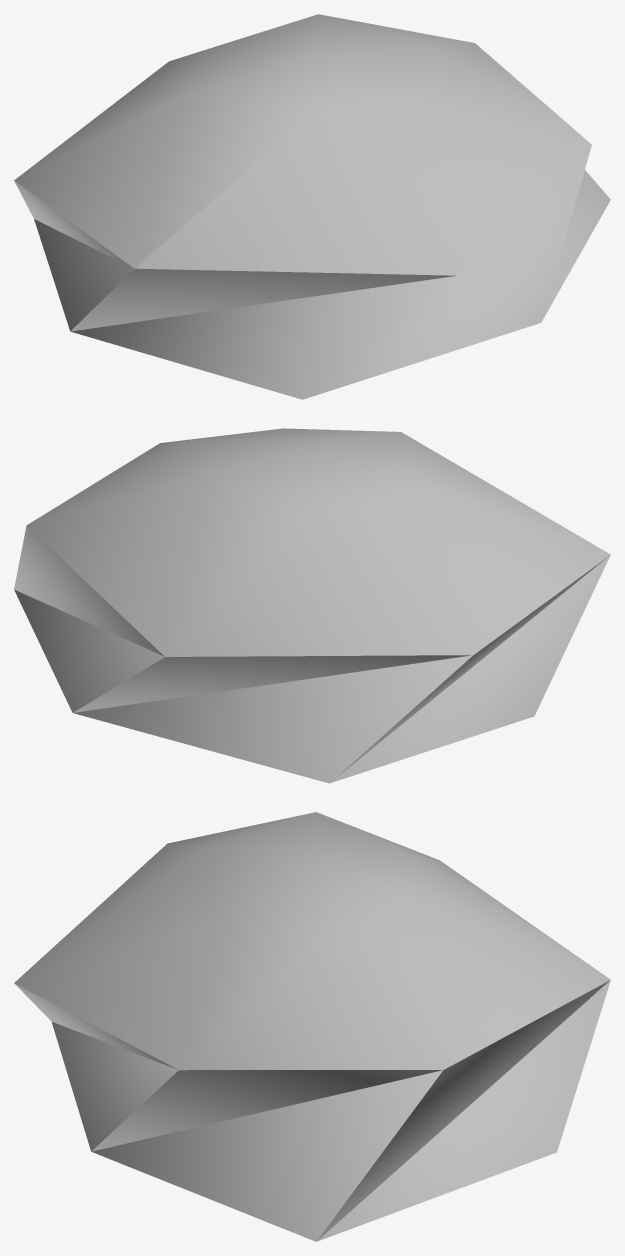
The model's file is item_rm_obsidian_a.obj.
3 renders of one model, top to bottom at view 1: azimuth 30°, elevation 25°; view 2: azimuth 150°, elevation 25°; view 3: azimuth 270°, elevation 25°, orthographic. The views are drawn at different scales.
Visible parts, largest first — view 1: item_rm_obsidian_a; view 2: item_rm_obsidian_a; view 3: item_rm_obsidian_a.
Part boxes in pixels (x1,y1,x2,y2): item_rm_obsidian_a: (14, 14, 610, 399); item_rm_obsidian_a: (14, 428, 610, 783); item_rm_obsidian_a: (14, 812, 610, 1241).
Size of the model in its own units: 0.5724 by 0.219 by 0.5215.
